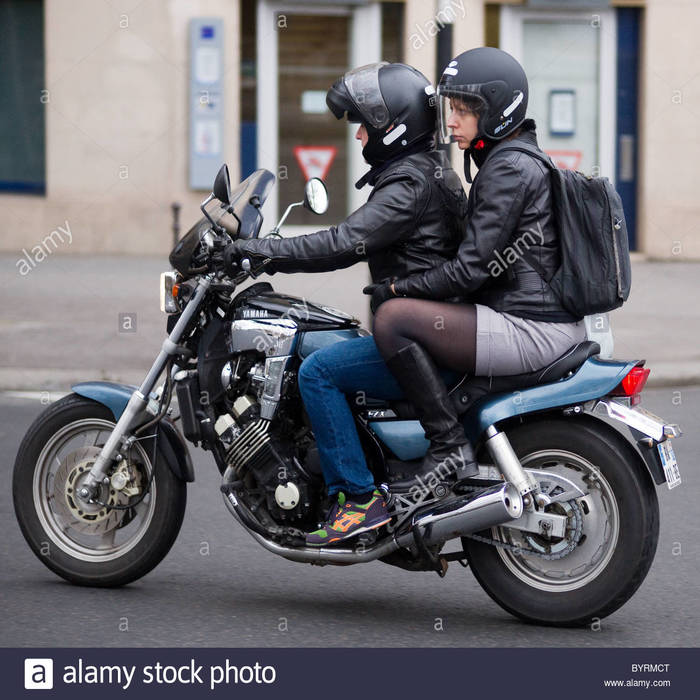h: (320, 59, 447, 173), (435, 44, 535, 153)
